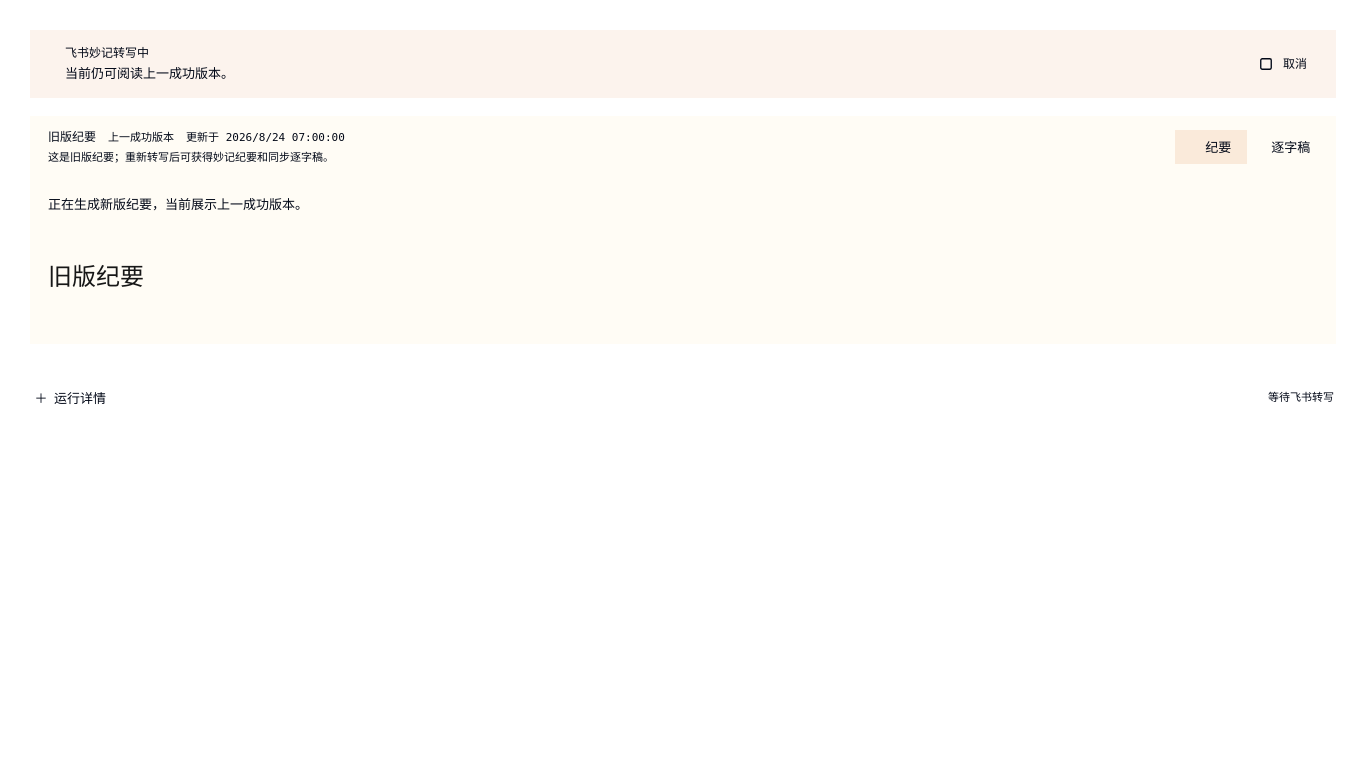
Test: EpisodeProcessingPanel › keeps the last successful schedule visible while a processing poll refreshes slowly
Click the heading "运行详情 等待飞书转写": (80, 398) x1=54 y1=390 x2=1334 y2=406
Wait 4000 ms
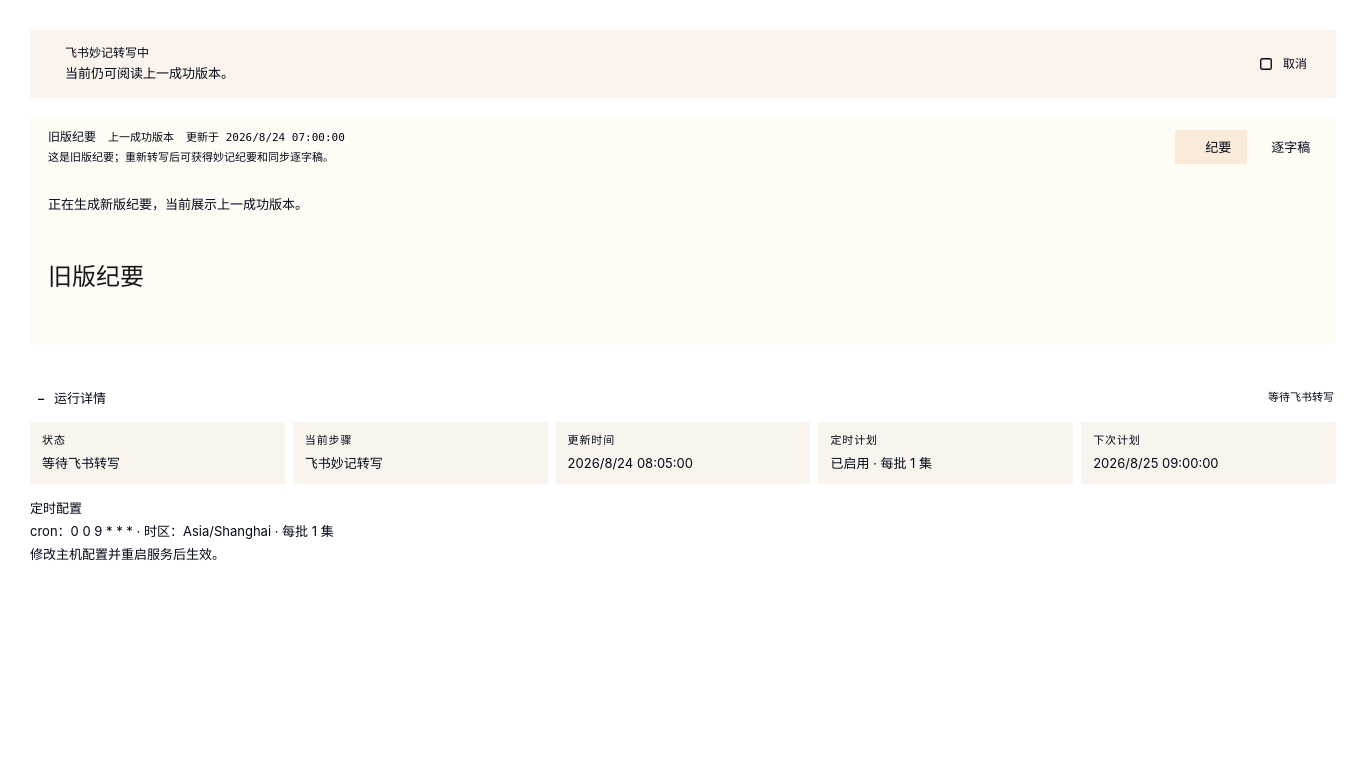
Now the text "已启用 · 每批 1 集" is shown, box x1=830 y1=455 x2=932 y2=471
